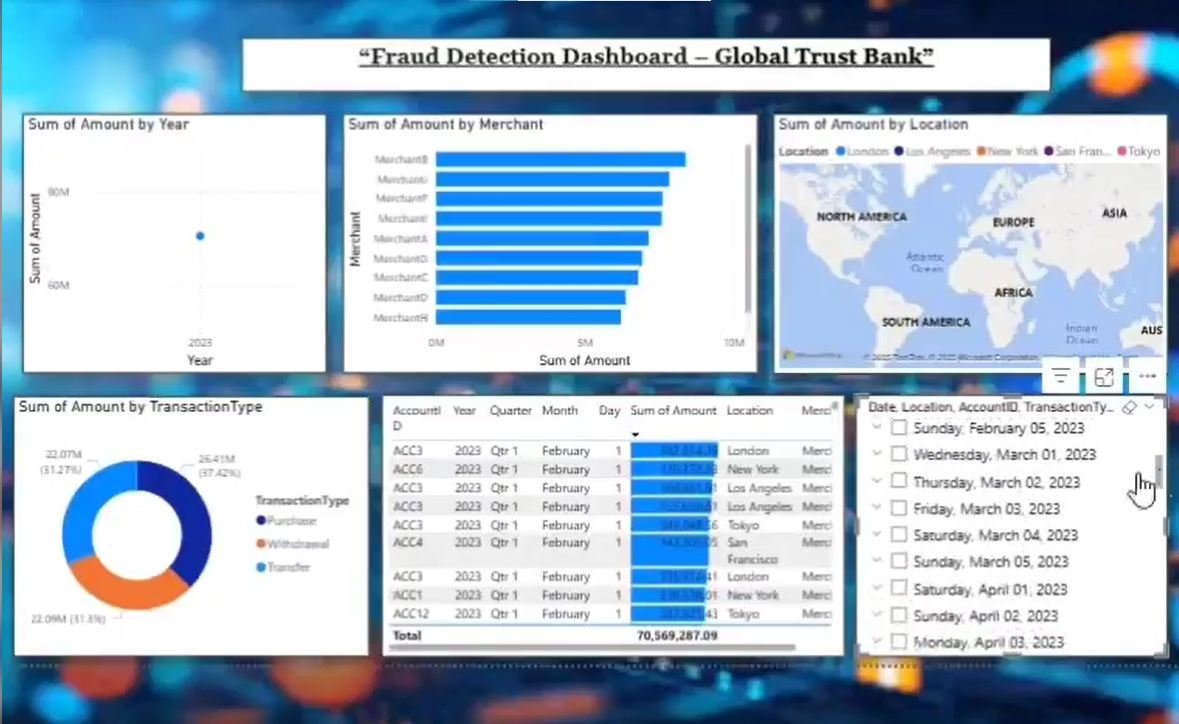

The dashboard page shown, as its layout file describes it:
{"tool":"powerbi","page":{"name":"Page 1","canvas":[1280,720],"ordinal":0},"visuals":[{"type":"lineChart","fields":{"Category":["financial_anomaly_data.Date.Variation.Date Hierarchy.Year","financial_anomaly_data.Date.Variation.Date Hierarchy.Quarter","financial_anomaly_data.Date.Variation.Date Hierarchy.Month","financial_anomaly_data.Date.Variation.Date Hierarchy.Day"],"Y":["Sum(financial_anomaly_data.Amount)"]},"box":[28.6,124.3,329.2,280.5],"z":0},{"type":"donutChart","fields":{"Category":["financial_anomaly_data.TransactionType"],"Y":["Sum(financial_anomaly_data.Amount)"]},"box":[18.5,430,384.7,282.2],"z":1000},{"type":"barChart","fields":{"Category":["financial_anomaly_data.Merchant"],"Y":["Sum(financial_anomaly_data.Amount)"]},"box":[374.6,124.3,448.5,280.5],"z":2000},{"type":"tableEx","fields":{"Values":["financial_anomaly_data.AccountID","financial_anomaly_data.Date.Variation.Date Hierarchy.Year","financial_anomaly_data.Date.Variation.Date Hierarchy.Quarter","financial_anomaly_data.Date.Variation.Date Hierarchy.Month","financial_anomaly_data.Date.Variation.Date Hierarchy.Day","Sum(financial_anomaly_data.Amount)","financial_anomaly_data.Location","financial_anomaly_data.Merchant"]},"box":[416.6,428.3,500.6,283.9],"z":4000},{"type":"slicer","fields":{"Values":["financial_anomaly_data.Date","financial_anomaly_data.Location","financial_anomaly_data.AccountID","financial_anomaly_data.TransactionType"]},"box":[942.4,428.3,337.6,283.9],"z":5000},{"type":"textbox","box":[265.4,42,875.2,58.8],"z":6000},{"type":"map","fields":{"Series":["financial_anomaly_data.Location"],"Category":["financial_anomaly_data.Location"]},"box":[844.9,124.3,419.9,280.5],"z":6001}]}

Visuals, with their boxes in screenshot pixels (x1, y1, x2, y2):
lineChart - financial_anomaly_data.Date.Variation.Date Hierarchy.Year x financial_anomaly_data.Date.Variation.Date Hierarchy.Quarter: l=26, t=113, r=325, b=368
donutChart - financial_anomaly_data.TransactionType x Sum(financial_anomaly_data.Amount): l=17, t=391, r=366, b=647
barChart - financial_anomaly_data.Merchant x Sum(financial_anomaly_data.Amount): l=340, t=113, r=748, b=368
tableEx - financial_anomaly_data.AccountID x financial_anomaly_data.Date.Variation.Date Hierarchy.Year: l=378, t=389, r=833, b=647
slicer - financial_anomaly_data.Date x financial_anomaly_data.Location: l=856, t=389, r=1163, b=647
textbox: l=241, t=38, r=1036, b=92
map - financial_anomaly_data.Location x financial_anomaly_data.Location: l=767, t=113, r=1149, b=368
